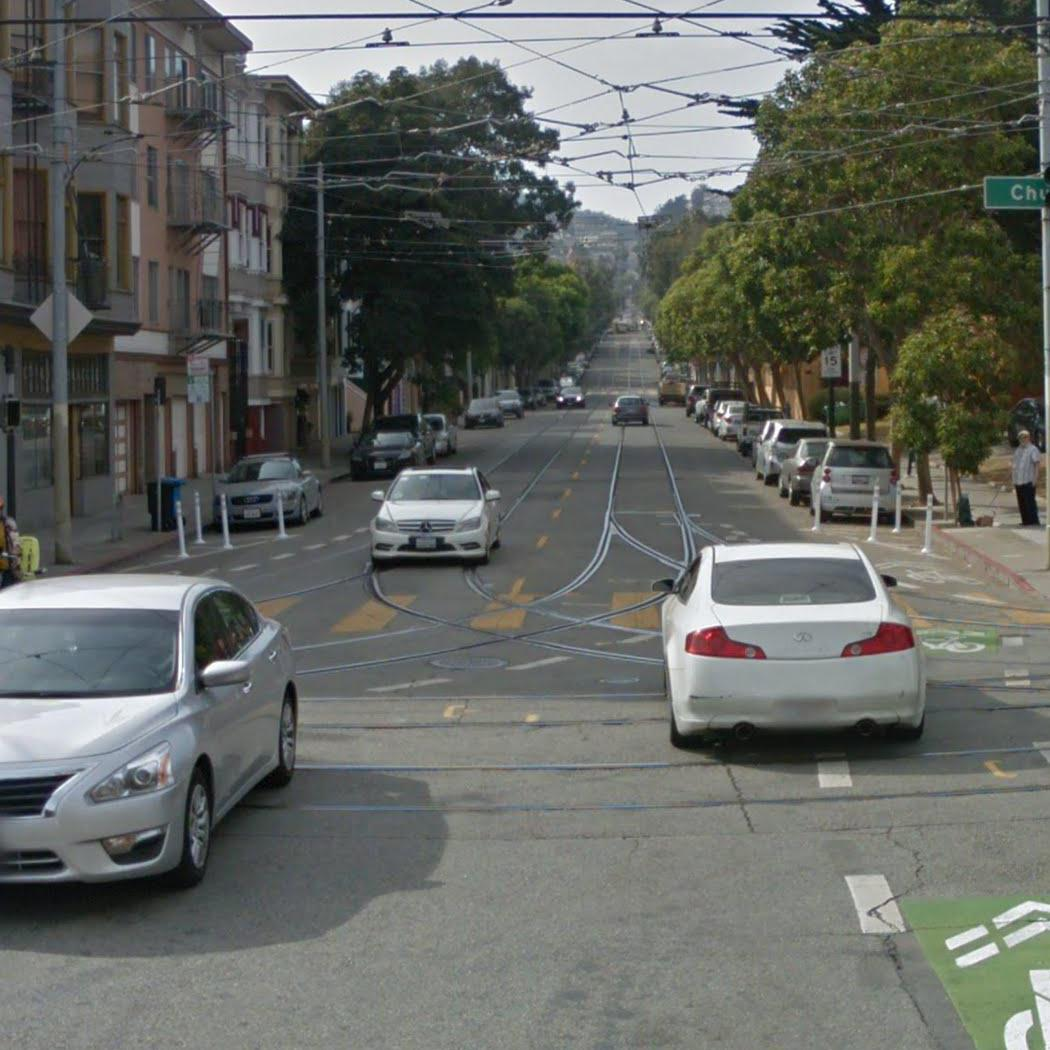1 Hour Parking: (186, 376, 213, 405)
No Parking: (186, 351, 211, 376)
